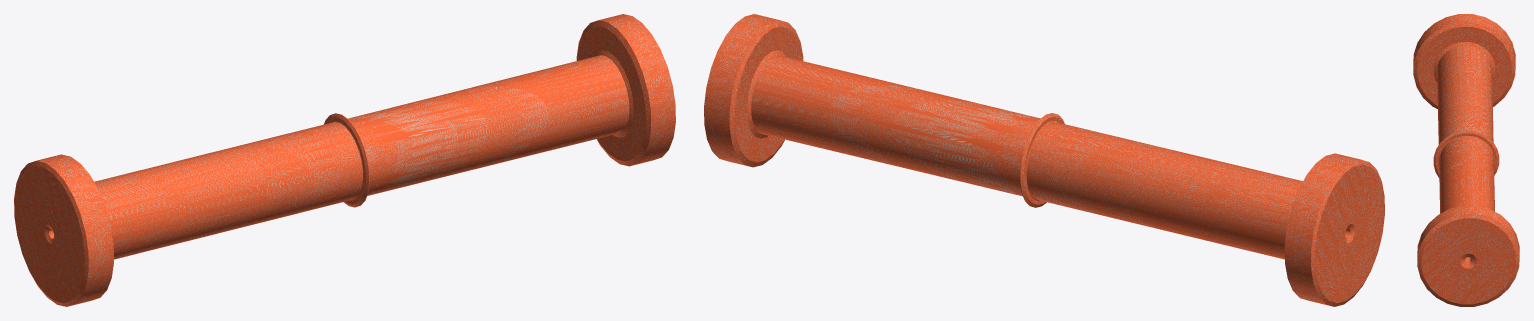
The model's file is original-4.obj.
The picture shows the model from 3 angles, left to right: view 1: azimuth 30°, elevation 25°; view 2: azimuth 150°, elevation 25°; view 3: azimuth 270°, elevation 25°; orthographic projection. The views are drawn at different scales.
Visible parts, largest first — view 1: mesh2/mesh2-geometry#mesh2-geometry; view 2: mesh2/mesh2-geometry#mesh2-geometry; view 3: mesh2/mesh2-geometry#mesh2-geometry.
Boxes of the visible parts, x1,y1,x2,y2 form: mesh2/mesh2-geometry#mesh2-geometry: (14,14,675,306); mesh2/mesh2-geometry#mesh2-geometry: (704,14,1384,306); mesh2/mesh2-geometry#mesh2-geometry: (1413,14,1519,306).
Bounding box in the file's own units: 0.259 × 0.0557 × 0.0576.
